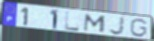1: (49, 9, 60, 30), (20, 7, 30, 26)
G: (128, 18, 149, 38)
J: (107, 16, 126, 36)
L: (64, 11, 81, 32)
M: (82, 13, 108, 33)
